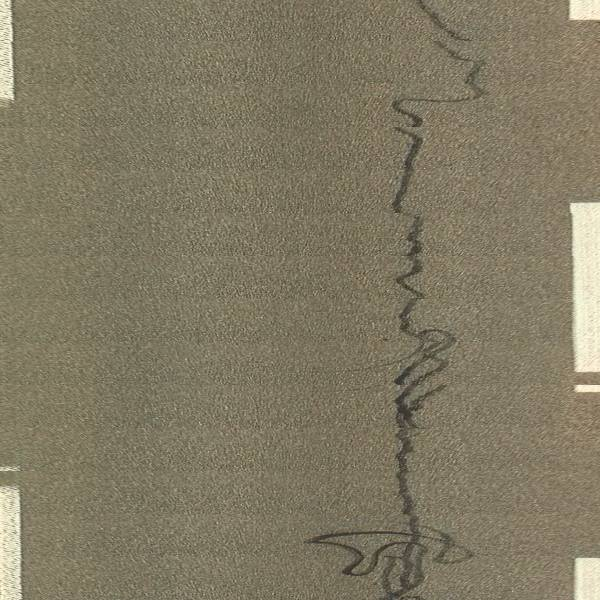road_damage: (305, 94, 480, 600)
